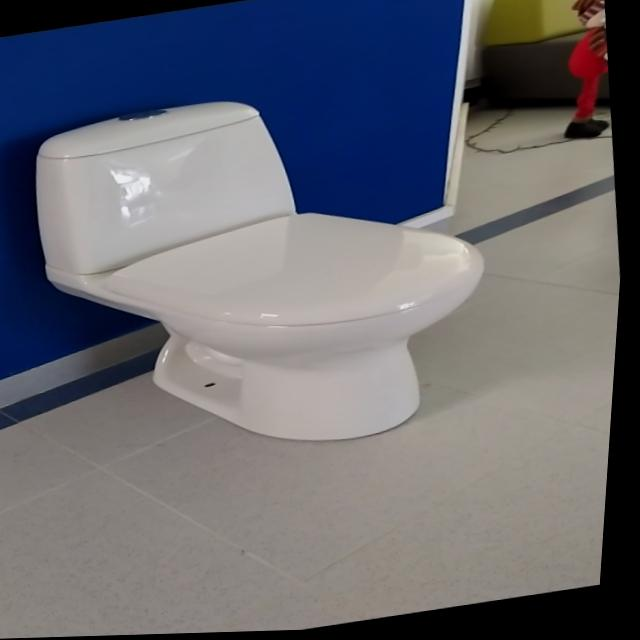toilet: (15, 61, 518, 486)
